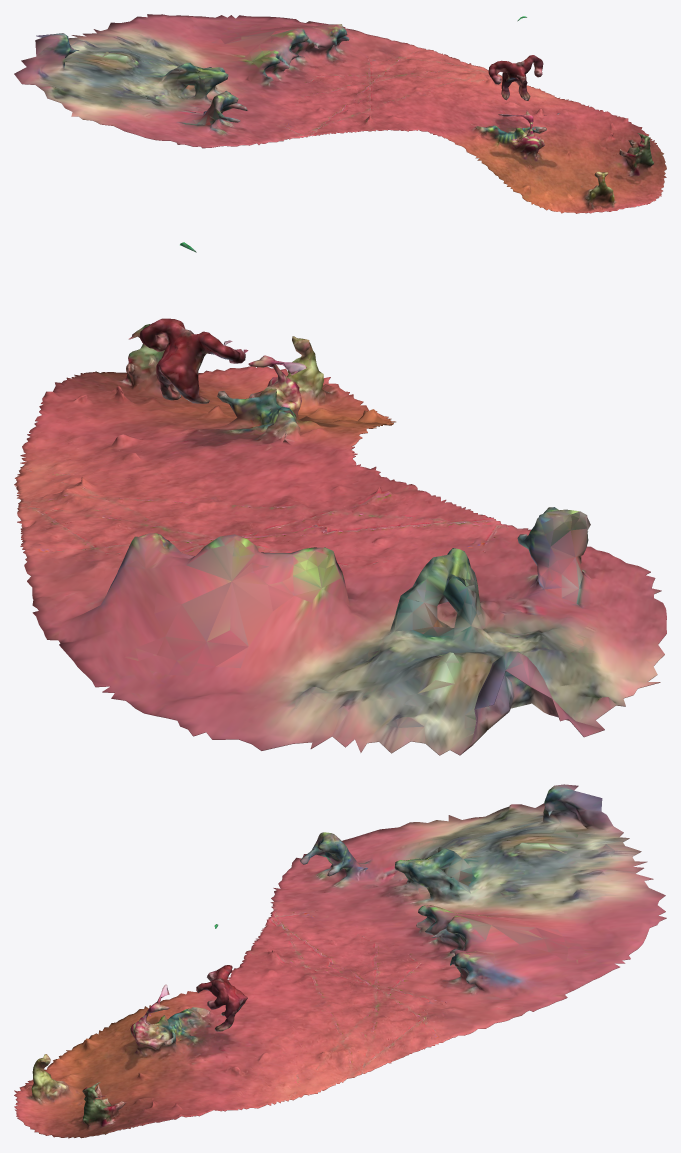
File: befriendroguehayton.glb
3 views of the same model, one above another, from view 1: azimuth 30°, elevation 25°; view 2: azimuth 150°, elevation 25°; view 3: azimuth 270°, elevation 25° (orthographic). The views are drawn at different scales.
Visible parts, largest first — view 1: befriendroguehayden; view 2: befriendroguehayden; view 3: befriendroguehayden.
Part boxes in pixels (x1,y1,x2,y2): befriendroguehayden: (14,14,666,213); befriendroguehayden: (14,242,666,755); befriendroguehayden: (14,784,666,1138).
Size of the model in its own units: 12.57 by 3.66 by 12.7.
1 material, 1 textured.
